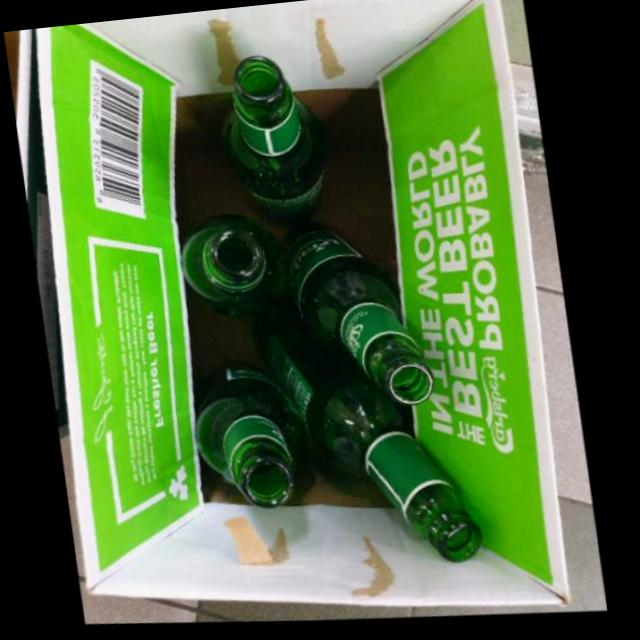chai_thuy_tinh: (255, 308, 483, 568), (283, 228, 435, 411), (223, 63, 332, 232), (196, 373, 306, 516), (183, 222, 289, 325)
